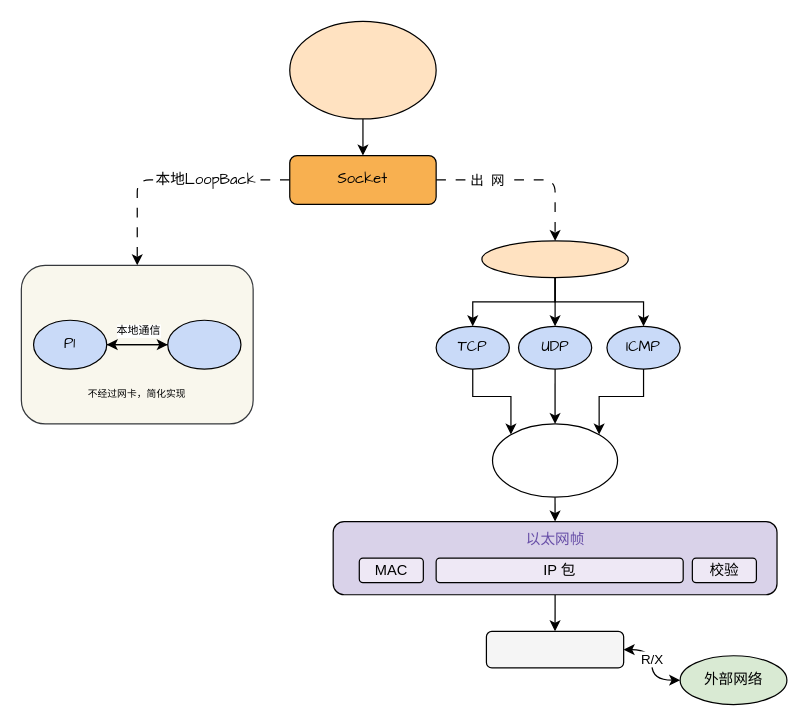
Image size: 809x726. Some labels were removed from this diagram. Here are the shapes that lost their labels. From the top down, the centre of each, then its label:
At point (362, 69): "用户进程".
At point (554, 259): "ONPS".
At point (204, 344): "P2".
At point (554, 460): "IP".
At point (554, 649): "VirtIO 网卡".
